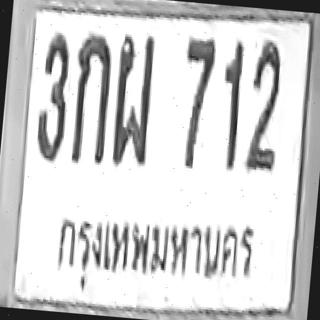A01: (68, 31, 114, 164)
A28: (109, 31, 156, 166)
N01: (215, 40, 246, 166)
N02: (244, 39, 285, 173)
N03: (32, 29, 73, 162)
N07: (176, 36, 216, 168)
P04: (47, 200, 261, 307)
